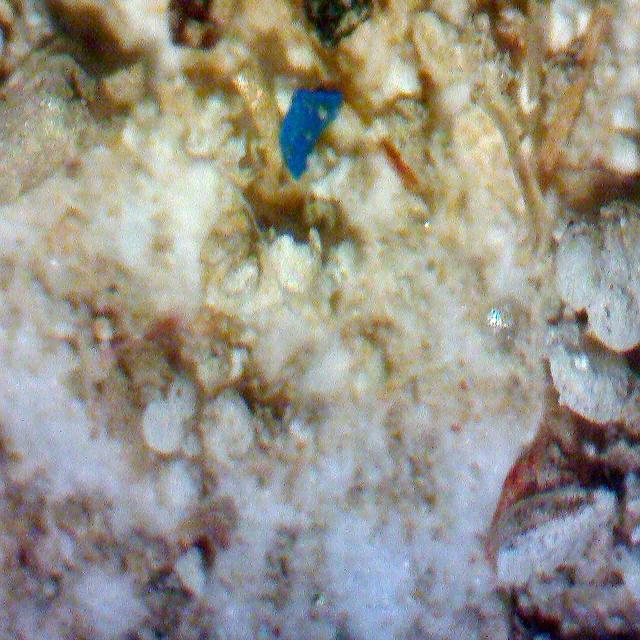microplastic: (255, 72, 347, 184)
